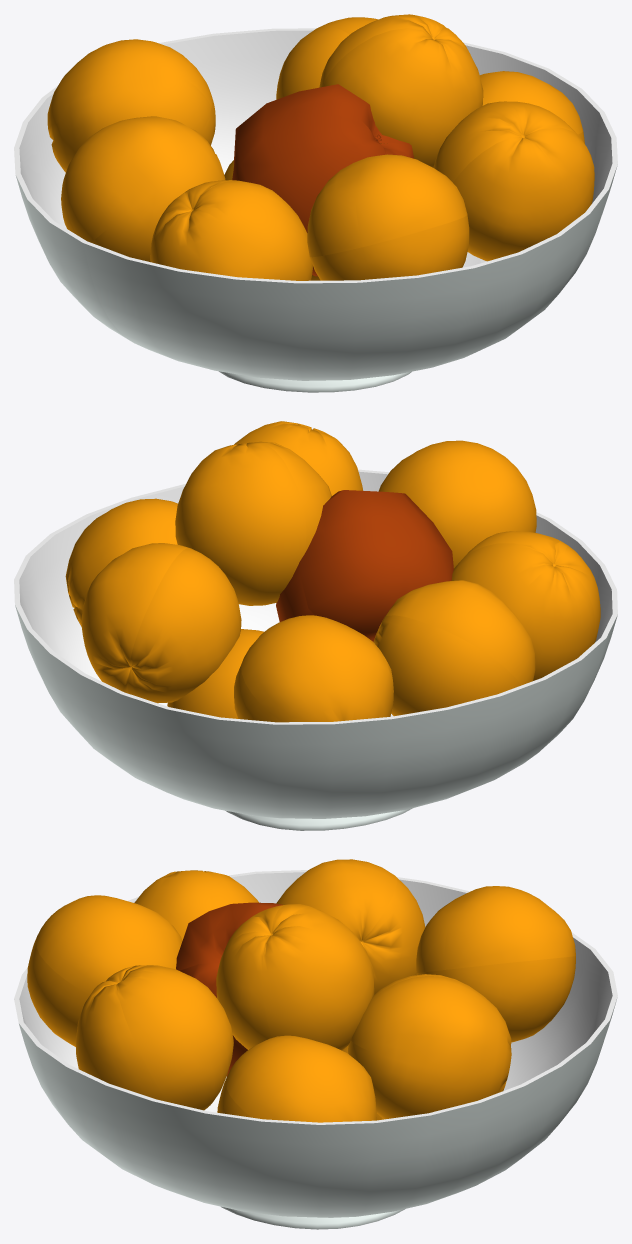
The model's file is blow.glb.
3 renders of one model, top to bottom at view 1: azimuth 30°, elevation 25°; view 2: azimuth 150°, elevation 25°; view 3: azimuth 270°, elevation 25°, orthographic. The views are drawn at different scales.
Visible parts, largest first — view 1: Cube.047; view 2: Cube.047; view 3: Cube.047.
Part boxes in pixels (x1,y1,x2,y2): Cube.047: [14, 14, 617, 392]; Cube.047: [14, 421, 617, 830]; Cube.047: [14, 859, 617, 1229].
Size of what is drawn, in the model's own units: 1.02 by 0.5724 by 1.02.
